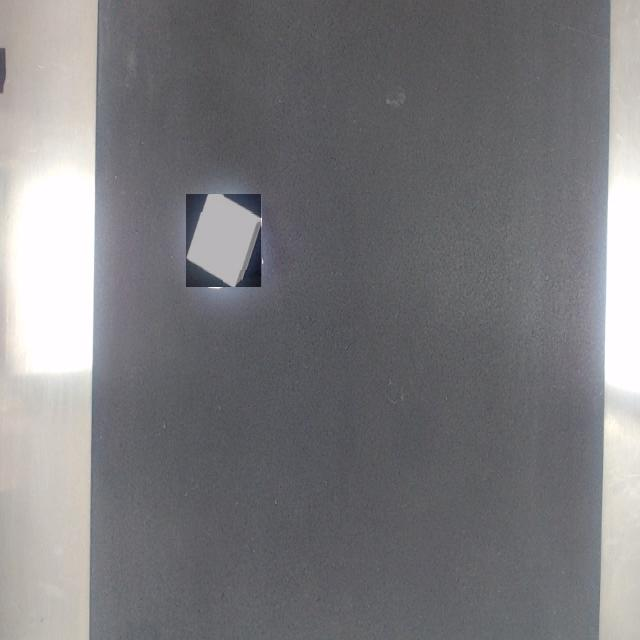Blanco: (187, 195, 261, 287)
